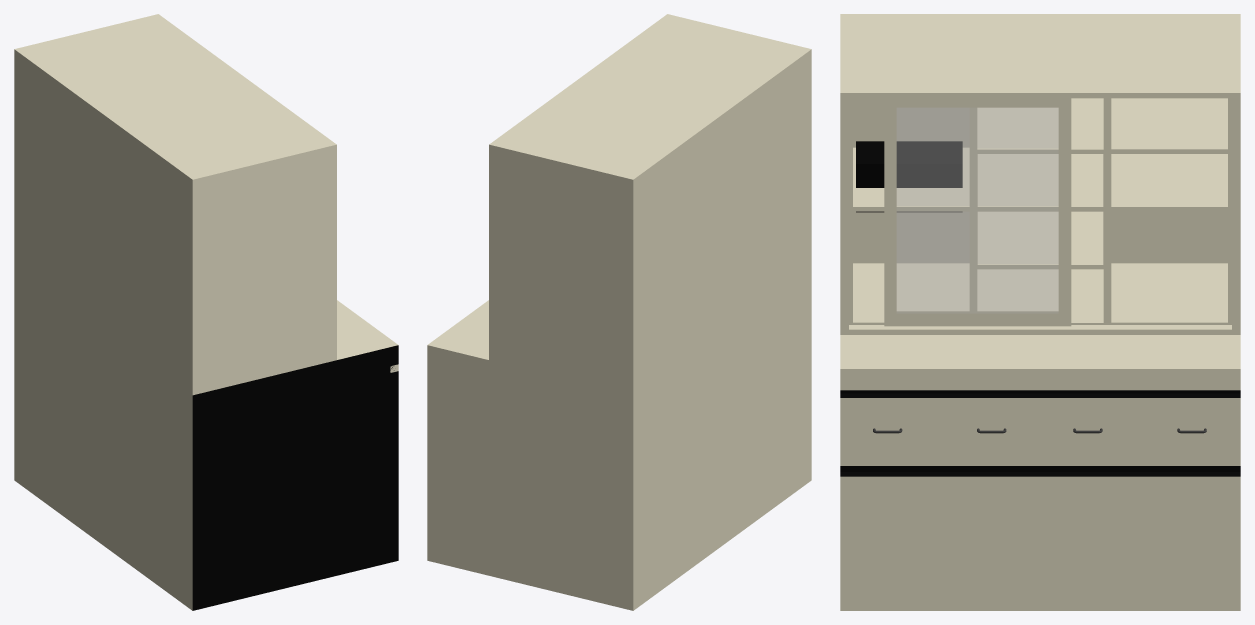
File: 실험용품보관함.glb
The picture shows the model from 3 angles, left to right: view 1: azimuth 30°, elevation 25°; view 2: azimuth 150°, elevation 25°; view 3: azimuth 270°, elevation 25°; orthographic projection. The views are drawn at different scales.
Parts seen in each view (by area): view 1: Cube.005, Cube; view 2: Cube.005, Cube; view 3: Cube.005, Cube, Cube.006, Cube.007.
Boxes of the visible parts, x1,y1,x2,y2 form: Cube.005: (14, 14, 336, 395); Cube: (14, 265, 398, 610); Cube.005: (489, 14, 811, 395); Cube: (427, 265, 811, 610); Cube.005: (840, 14, 1240, 334); Cube: (840, 335, 1240, 610); Cube.006: (884, 98, 1071, 326); Cube.007: (856, 141, 962, 212).
Size of the model in its own units: 10.25 by 20 by 15.
